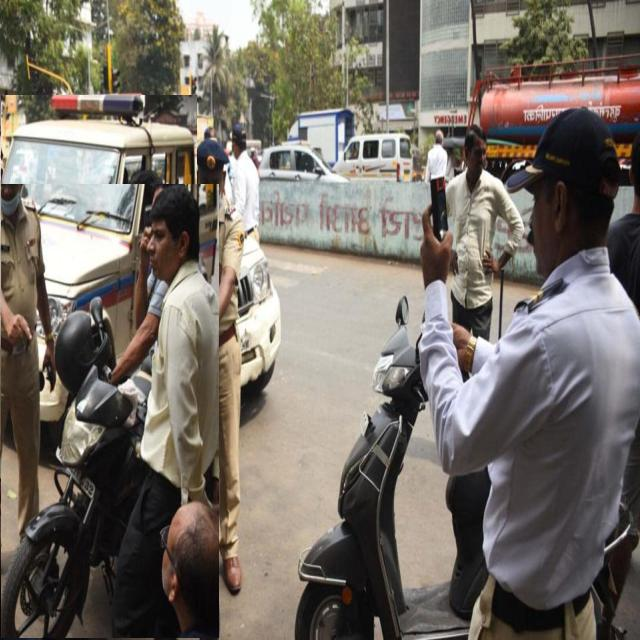car: (1, 96, 196, 352)
motorcycle: (0, 185, 219, 638), (295, 298, 469, 640)
